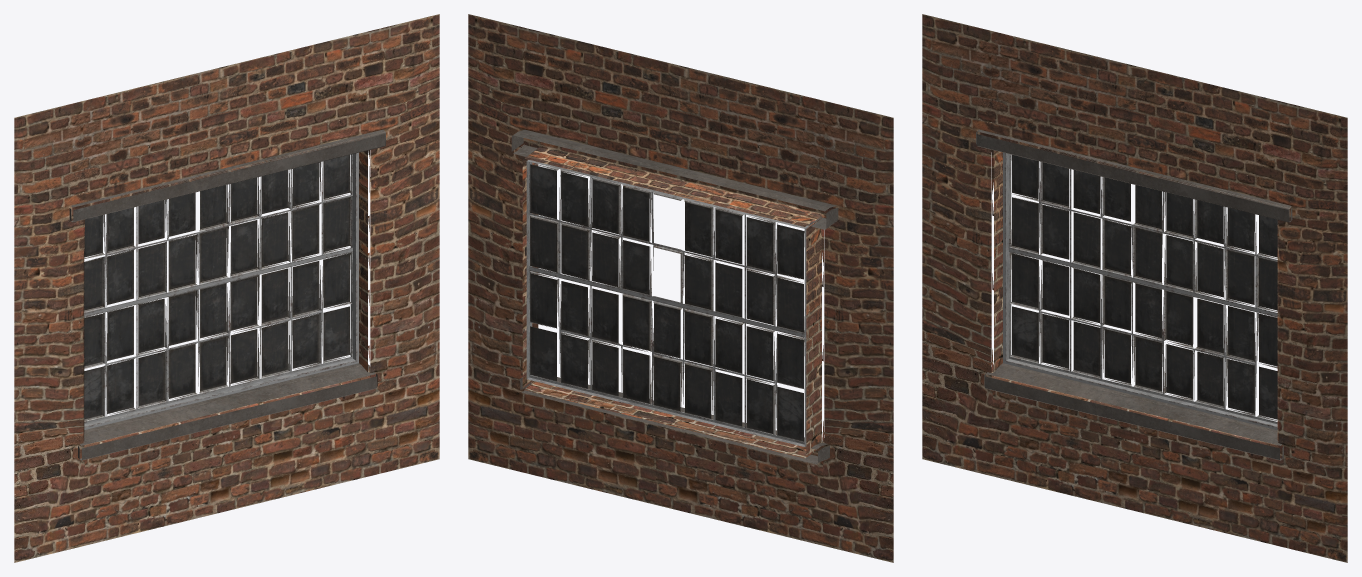
Rendered from bay_window_a.gltf.
3 renders of one model, left to right at view 1: azimuth 30°, elevation 25°; view 2: azimuth 150°, elevation 25°; view 3: azimuth 330°, elevation 25°, orthographic.
Visible parts, largest first — view 1: bay_window_a; view 2: bay_window_a; view 3: bay_window_a.
Part boxes in pixels (bbox=[...]): bay_window_a: bbox=[14, 14, 439, 562]; bay_window_a: bbox=[468, 14, 893, 562]; bay_window_a: bbox=[922, 14, 1347, 562].
Size of the model in its own units: 3 by 3 by 0.23.
Materials: 3 (3 with a texture image).
